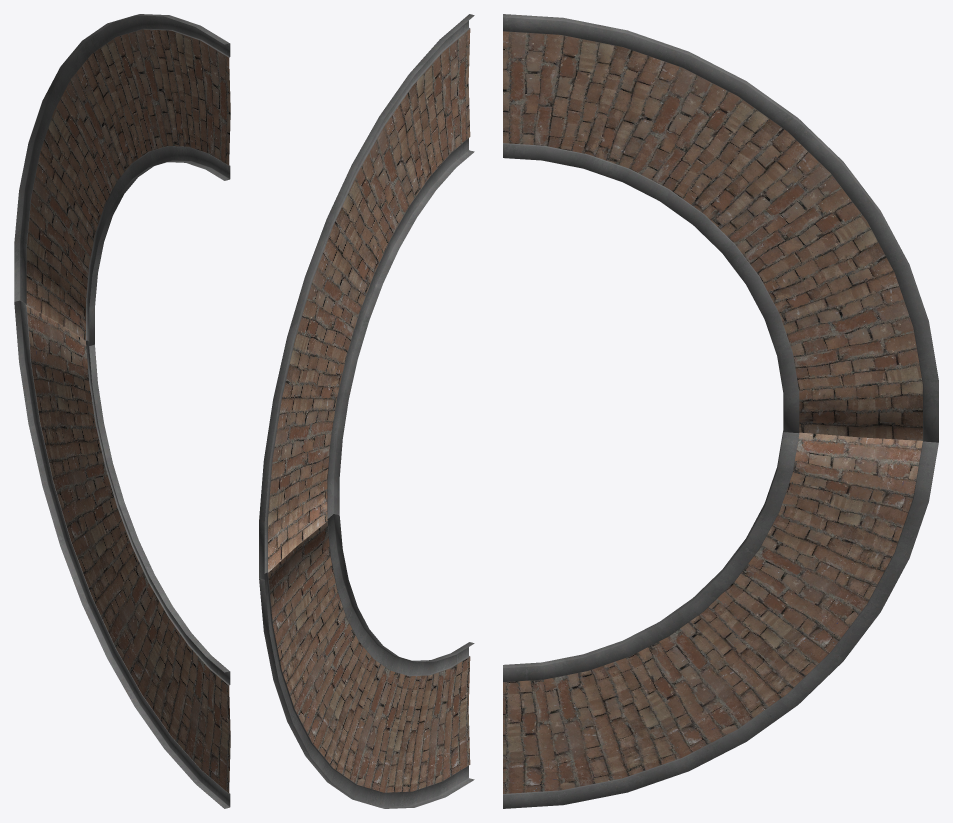
File: cP_Pathway01_HalfCircle.dae
The picture shows the model from 3 angles, left to right: view 1: azimuth 30°, elevation 25°; view 2: azimuth 150°, elevation 25°; view 3: azimuth 270°, elevation 25°; orthographic projection. The views are drawn at different scales.
Visible parts, largest first — view 1: cP_Pathway01_HalfCircle.001; view 2: cP_Pathway01_HalfCircle.001; view 3: cP_Pathway01_HalfCircle.001.
Boxes of the visible parts, x1,y1,x2,y2 form: cP_Pathway01_HalfCircle.001: [14, 14, 230, 808]; cP_Pathway01_HalfCircle.001: [259, 14, 474, 808]; cP_Pathway01_HalfCircle.001: [503, 14, 938, 808].
Size of the model in its own units: 0.0939 by 5.46 by 10.95.
